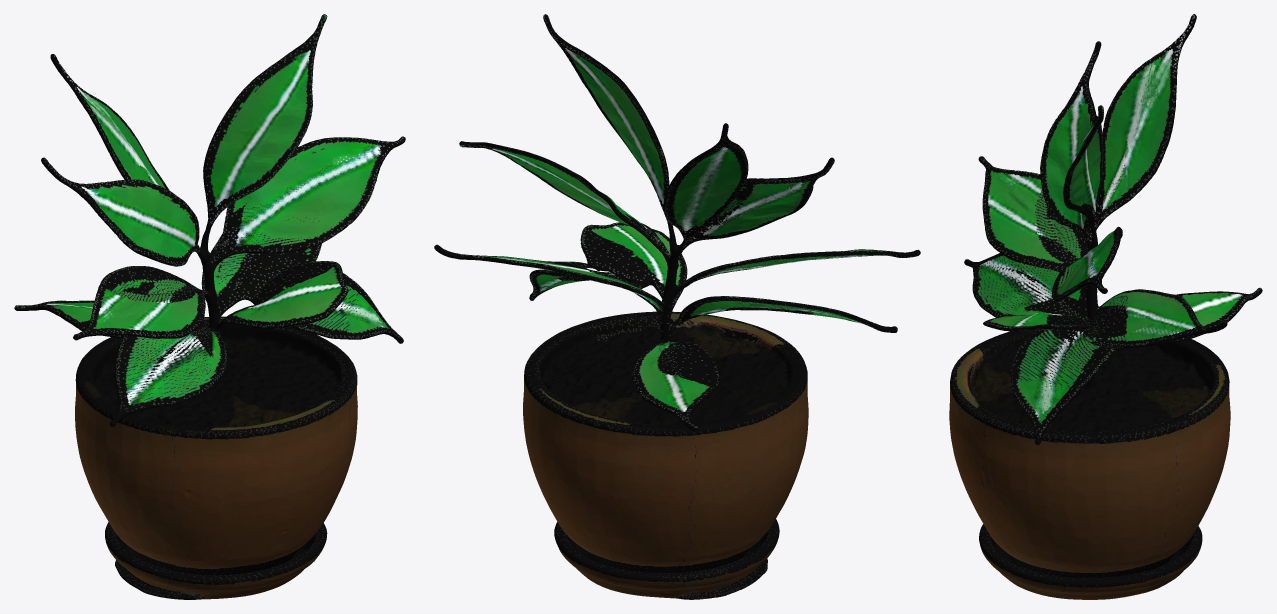
File: growth-planter-b-generated-2026-04-18t01-36-15-986z-texture-wrap-2026-04-18T01-38-19-536Z.high.glb
3 renders of one model, left to right at view 1: azimuth 30°, elevation 25°; view 2: azimuth 150°, elevation 25°; view 3: azimuth 270°, elevation 25°, orthographic.
Visible parts, largest first — view 1: temp_mesh.ply; view 2: temp_mesh.ply; view 3: temp_mesh.ply.
Part boxes in pixels (x1,y1,x2,y2): temp_mesh.ply: (14, 14, 405, 599); temp_mesh.ply: (434, 14, 920, 599); temp_mesh.ply: (949, 14, 1262, 599).
Size of the model in its own units: 1.57 by 1.97 by 1.08.
Materials: 1 (1 with a texture image).
